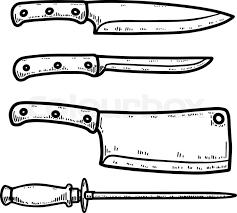Knife: (8, 100, 232, 174), (0, 177, 236, 212), (10, 0, 234, 35), (12, 53, 213, 81)
